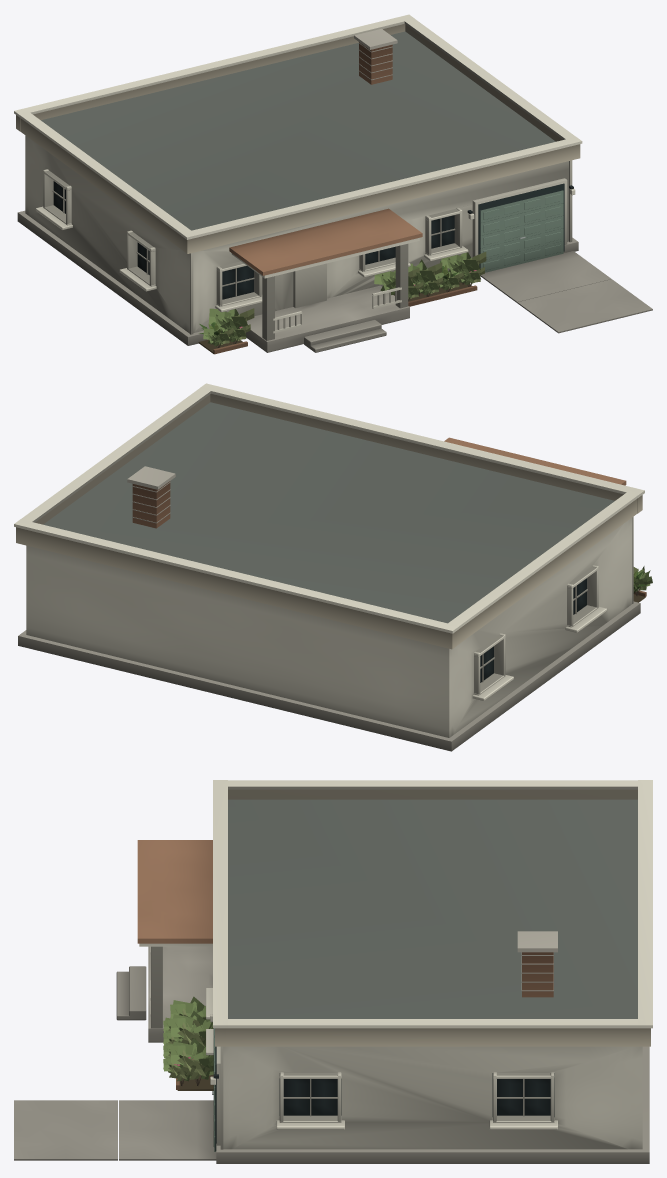
File: house-2.glb
The picture shows the model from 3 angles, top to bottom: view 1: azimuth 30°, elevation 25°; view 2: azimuth 150°, elevation 25°; view 3: azimuth 270°, elevation 25°; orthographic projection. The views are drawn at different scales.
Visible parts, largest first — view 1: shingle, ivory, concrete, stucco, terracotta, sage, foliage, window-glazing, foliage-light, window-interior; view 2: ivory, shingle, stucco, concrete, terracotta, window-glazing; view 3: shingle, ivory, concrete, stucco, terracotta, window-glazing, foliage, foliage-light.
Boxes of the visible parts, x1,y1,x2,y2 form: shingle: (41, 31, 555, 230); ivory: (14, 14, 582, 340); concrete: (17, 28, 652, 352); stucco: (16, 24, 580, 253); terracotta: (213, 42, 477, 353); sage: (480, 190, 563, 272); foliage: (203, 252, 480, 346); window-glazing: (53, 181, 454, 299); foliage-light: (218, 252, 486, 344); window-interior: (478, 183, 564, 267); ivory: (14, 383, 644, 737); shingle: (43, 402, 614, 623); stucco: (16, 394, 642, 649); concrete: (18, 466, 640, 751); terracotta: (132, 437, 646, 596); window-glazing: (480, 578, 586, 682); shingle: (228, 799, 637, 1018); ivory: (139, 780, 652, 1149); concrete: (14, 931, 649, 1163); stucco: (215, 789, 650, 1046); terracotta: (137, 840, 553, 1089); window-glazing: (283, 1079, 550, 1115); foliage: (163, 996, 213, 1081); foliage-light: (168, 1008, 210, 1081).
Size of the model in its own units: 16.89 by 5.58 by 18.28.
